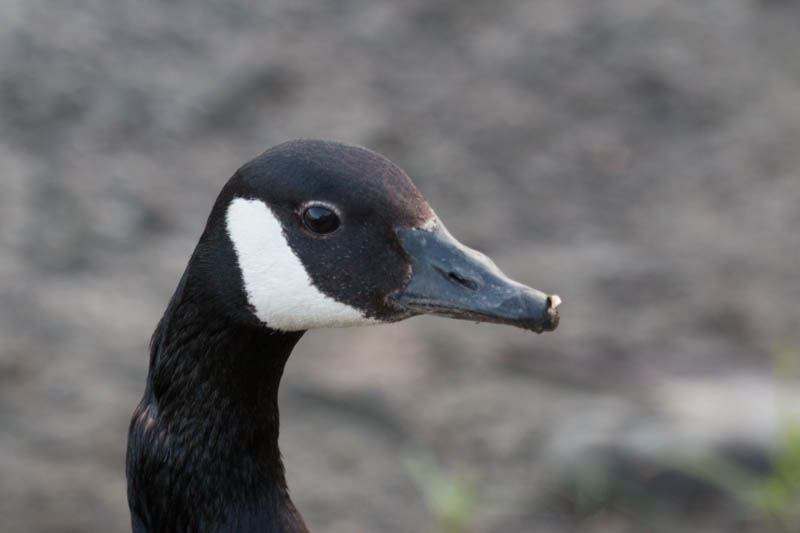goose-head: (162, 138, 563, 335)
